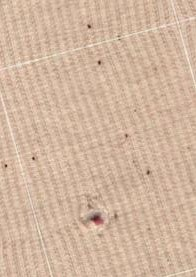hole: (75, 201, 122, 237)
stain: (137, 162, 163, 185), (87, 51, 111, 71), (79, 19, 102, 37), (117, 129, 138, 146), (24, 151, 46, 167), (1, 158, 16, 179)
